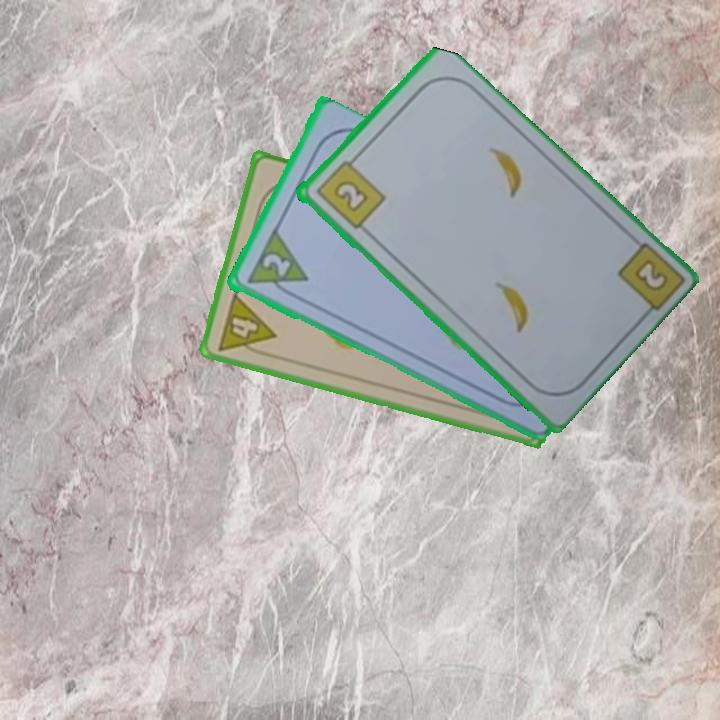2b: (312, 152, 388, 232), (630, 255, 668, 291)
2p: (258, 250, 294, 281)
4p: (213, 289, 279, 361)
